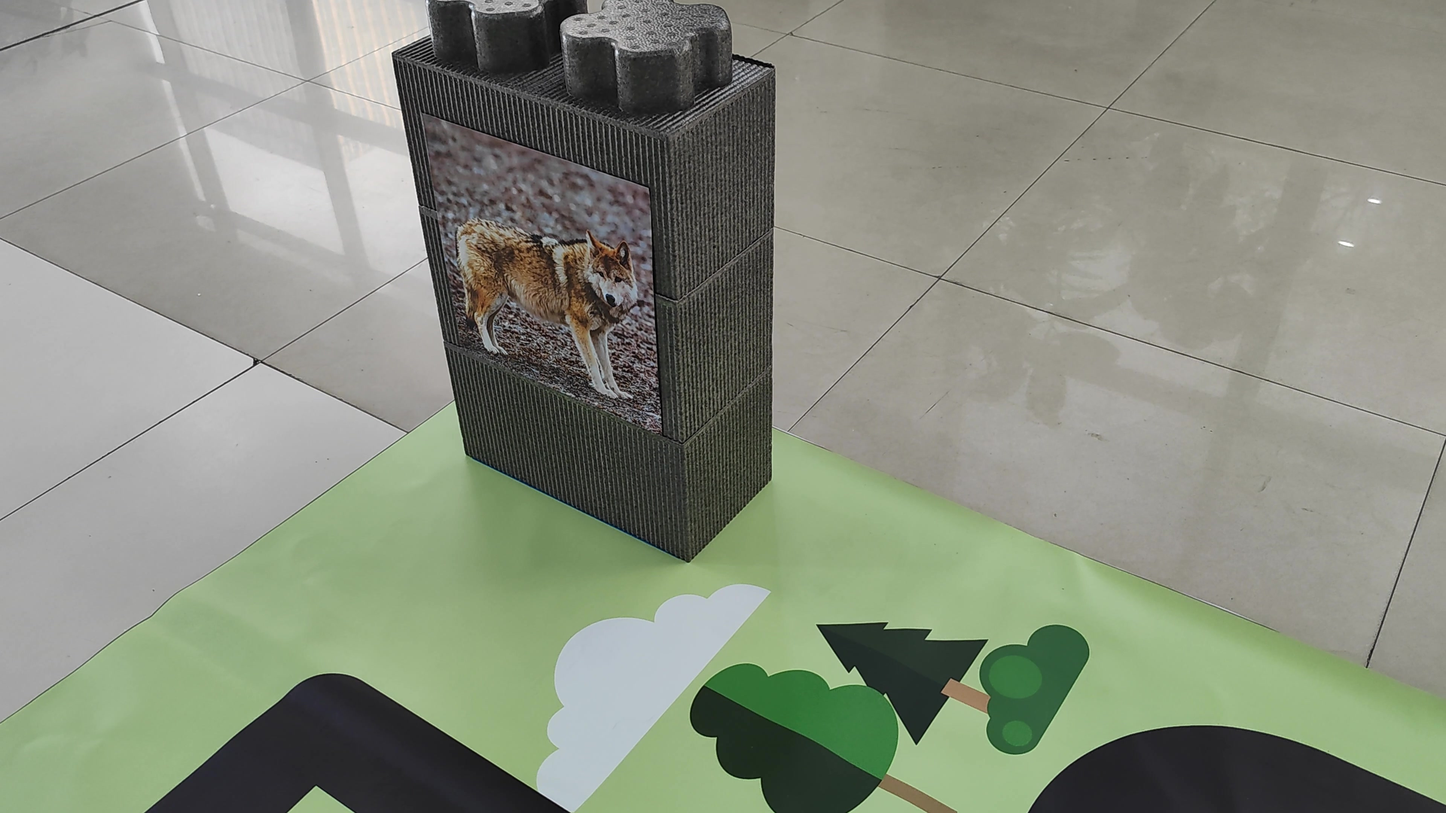wolf: (403, 167, 677, 409)
